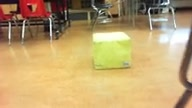cube: (92, 31, 132, 70)
